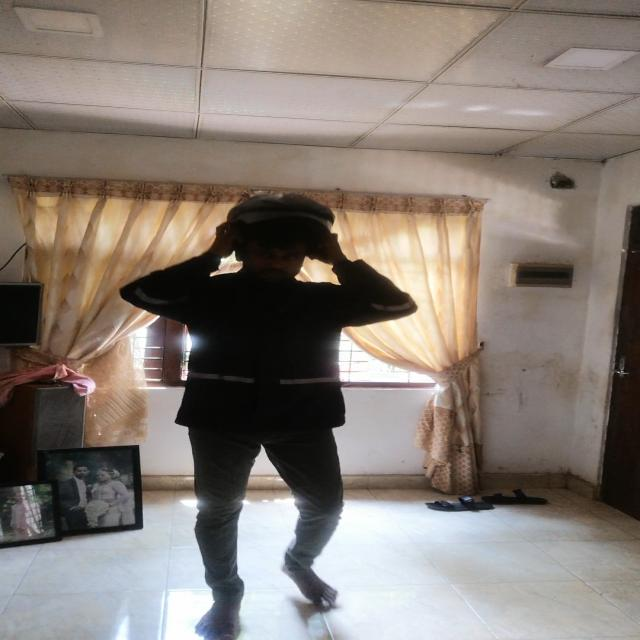Helmet_Wearer: (209, 194, 345, 296)
Jacket_Wearer: (121, 250, 418, 459)
Person: (117, 192, 413, 626)
